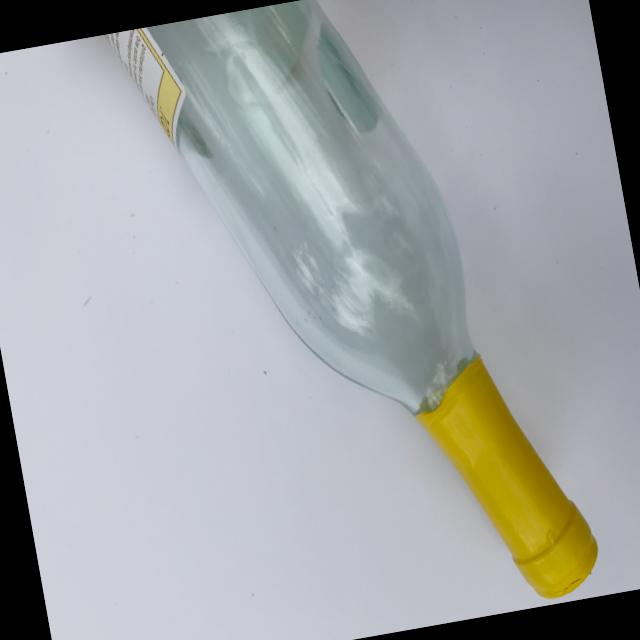Glass: (95, 0, 621, 640)
